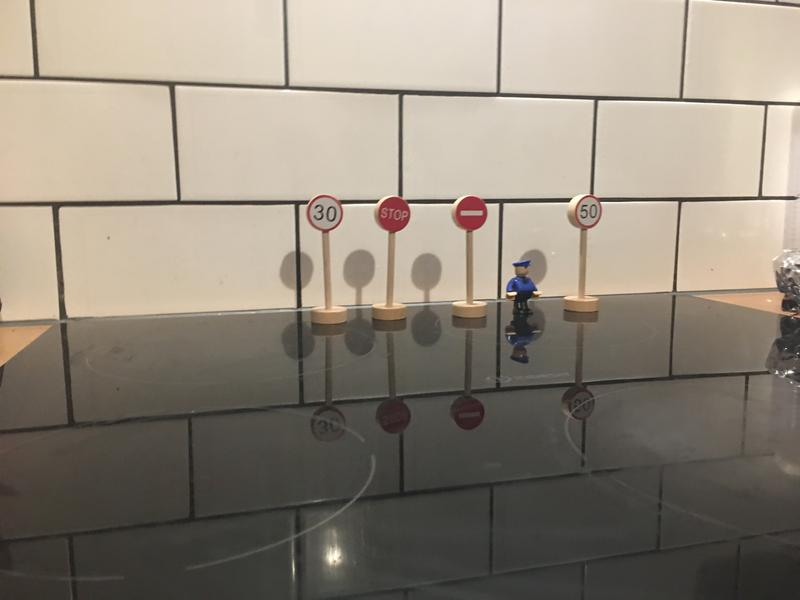Traffic_Sign_30: (308, 195, 342, 230)
Traffic_Sign_50: (575, 196, 601, 227)
Traffic_Sign_No_Entry: (456, 195, 487, 231)
Traffic_Sign_Stop: (378, 197, 410, 231)
person: (505, 257, 541, 314)
